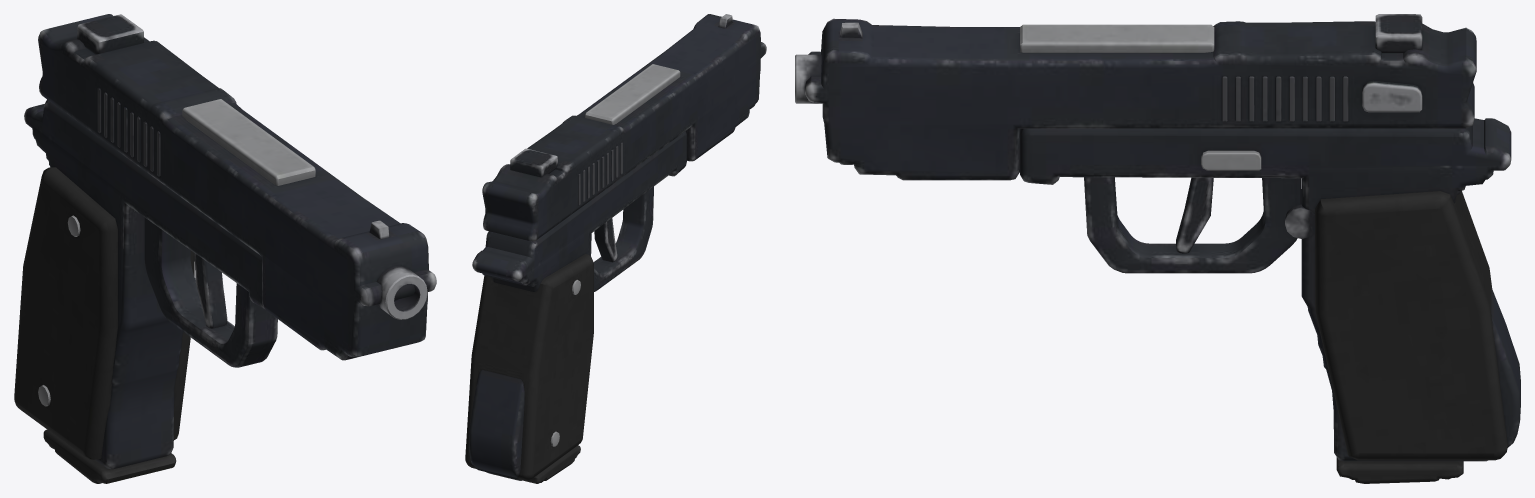
File: pistol_p92.glb
3 views of the same model, side by side, from view 1: azimuth 30°, elevation 25°; view 2: azimuth 150°, elevation 25°; view 3: azimuth 270°, elevation 25° (orthographic). The views are drawn at different scales.
Visible parts, largest first — view 1: body, slide_mesh, mag_mesh; view 2: body, slide_mesh, mag_mesh; view 3: body, slide_mesh, mag_mesh.
Boxes of the visible parts, left/top/right/bottom form: body: left=14, top=99, right=427, bottom=469; slide_mesh: left=38, top=14, right=436, bottom=360; mag_mesh: left=43, top=429, right=176, bottom=483; body: left=465, top=131, right=686, bottom=480; slide_mesh: left=482, top=14, right=766, bottom=241; mag_mesh: left=486, top=445, right=580, bottom=483; body: left=795, top=54, right=1520, bottom=461; slide_mesh: left=805, top=14, right=1476, bottom=180; mag_mesh: left=1336, top=457, right=1463, bottom=483.
Bounding box in the file's own units: 0.0341 × 0.1457 × 0.2164.
1 material, 1 textured.
